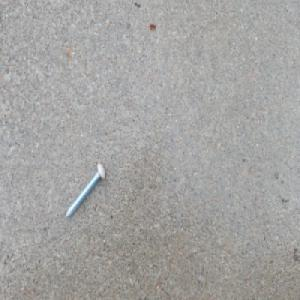Nail: (63, 160, 106, 221)
